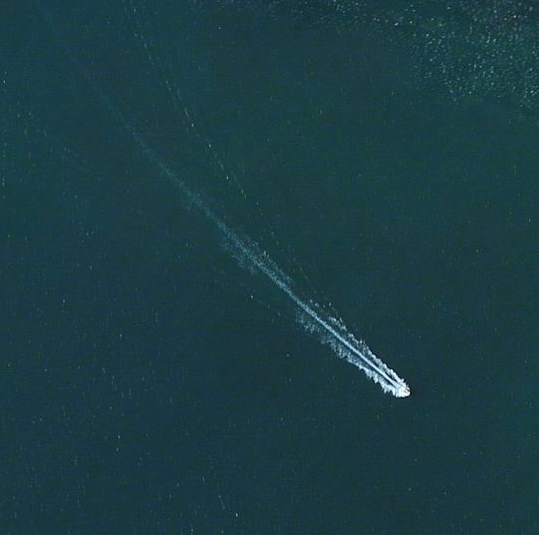ship: (390, 379, 412, 398)
